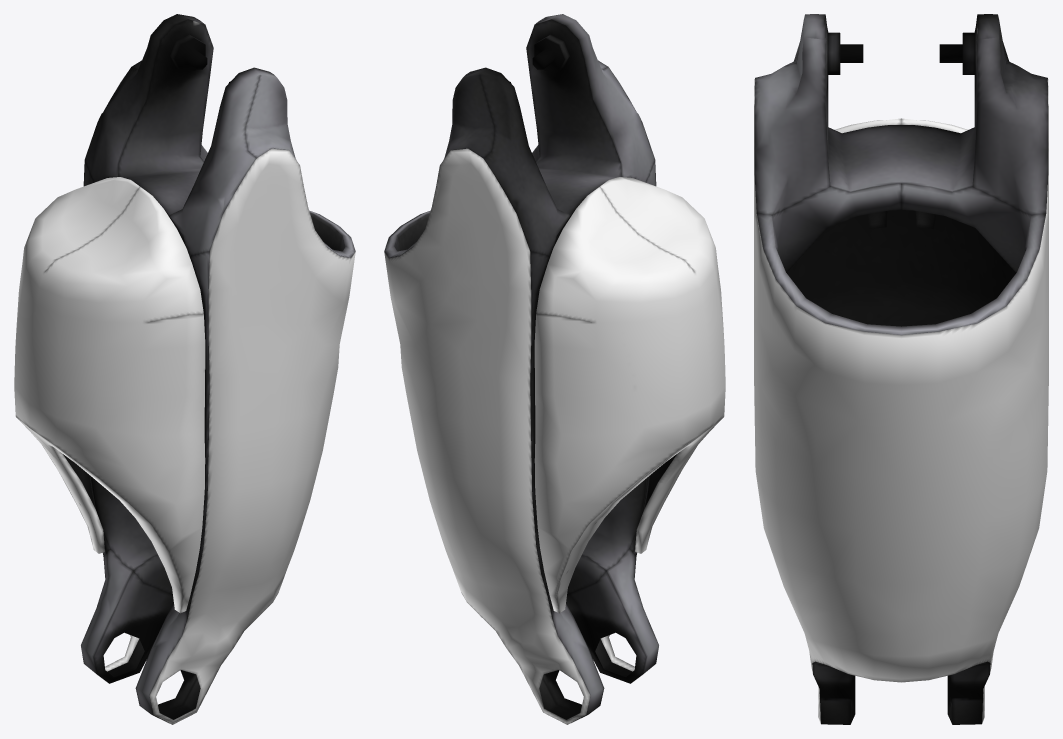
Rendered from r_uleg.dae.
3 views of the same model, side by side, from view 1: azimuth 30°, elevation 25°; view 2: azimuth 150°, elevation 25°; view 3: azimuth 270°, elevation 25° (orthographic). The views are drawn at different scales.
Visible parts, largest first — view 1: r_uleg; view 2: r_uleg; view 3: r_uleg.
Boxes of the visible parts, x1,y1,x2,y2 form: r_uleg: (14,14,355,724); r_uleg: (384,14,725,724); r_uleg: (754,14,1048,724).
Bounding box in the file's own units: 0.2107 × 0.1481 × 0.4127.
1 material, 1 textured.
